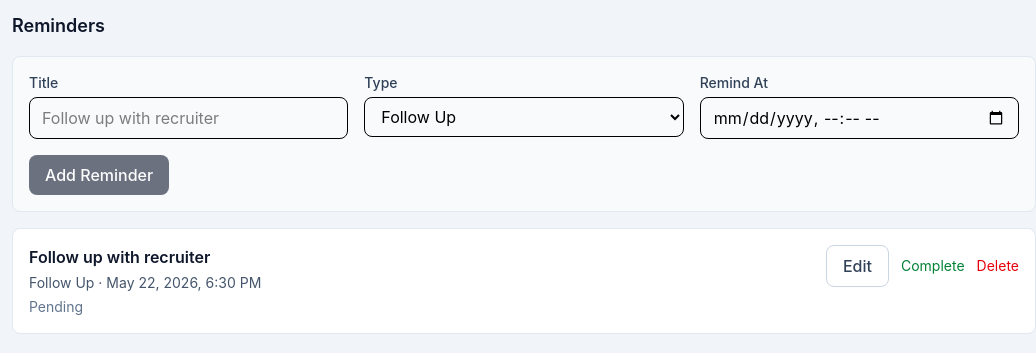
Test case: RemindersSection › click Edit fills the form with reminder data
Check: the heading "Follow up with recruiter" is shown, box 29,247 -> 210,267
Click the button "Edit". click: (857, 266)
box: 826,245 -> 889,287
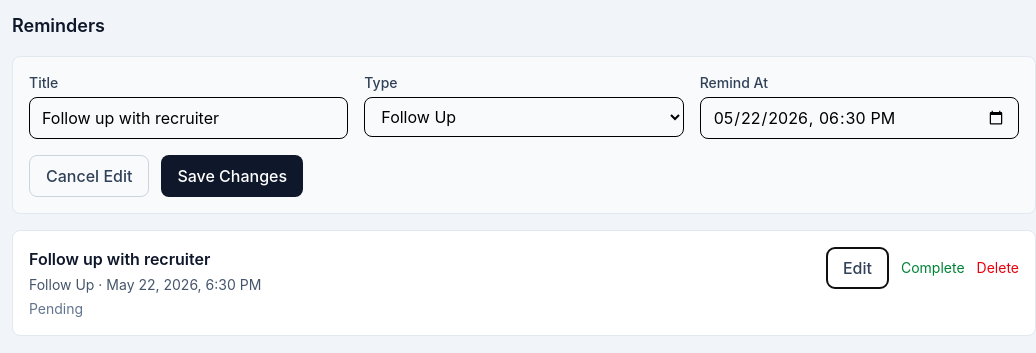
Check: the field labelled "Title" holds "Follow up with recruiter", box 29,97 -> 348,139
Check: the button "Save Changes" is shown, box 161,155 -> 303,197
Check: the button "Cancel Edit" is shown, box 29,155 -> 149,197
